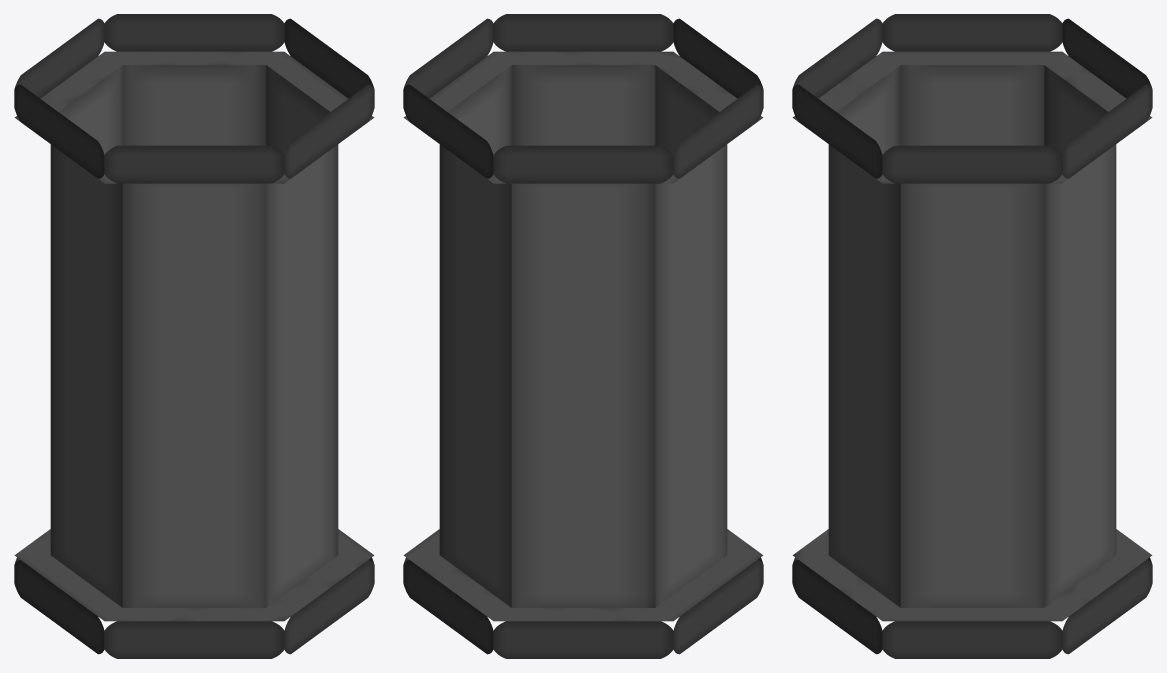
Rendered from Pipe_Straight_Small.fbx.
The picture shows the model from 3 angles, left to right: view 1: azimuth 30°, elevation 25°; view 2: azimuth 150°, elevation 25°; view 3: azimuth 270°, elevation 25°; orthographic projection.
Parts seen in each view (by area): view 1: Small_Straight_Pipe; view 2: Small_Straight_Pipe; view 3: Small_Straight_Pipe.
Part boxes in pixels (left/top/right/bottom): Small_Straight_Pipe: left=14, top=14, right=374, bottom=658; Small_Straight_Pipe: left=403, top=14, right=763, bottom=658; Small_Straight_Pipe: left=792, top=14, right=1152, bottom=658.
Size of the model in its own units: 37.92 by 68.87 by 43.79.
